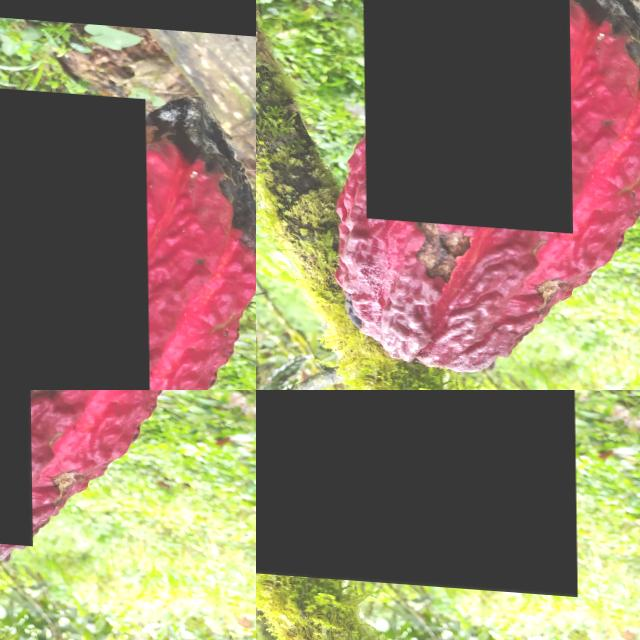Fitoftora: (256, 390, 575, 588), (362, 0, 571, 226)
Sana: (0, 77, 149, 390)
